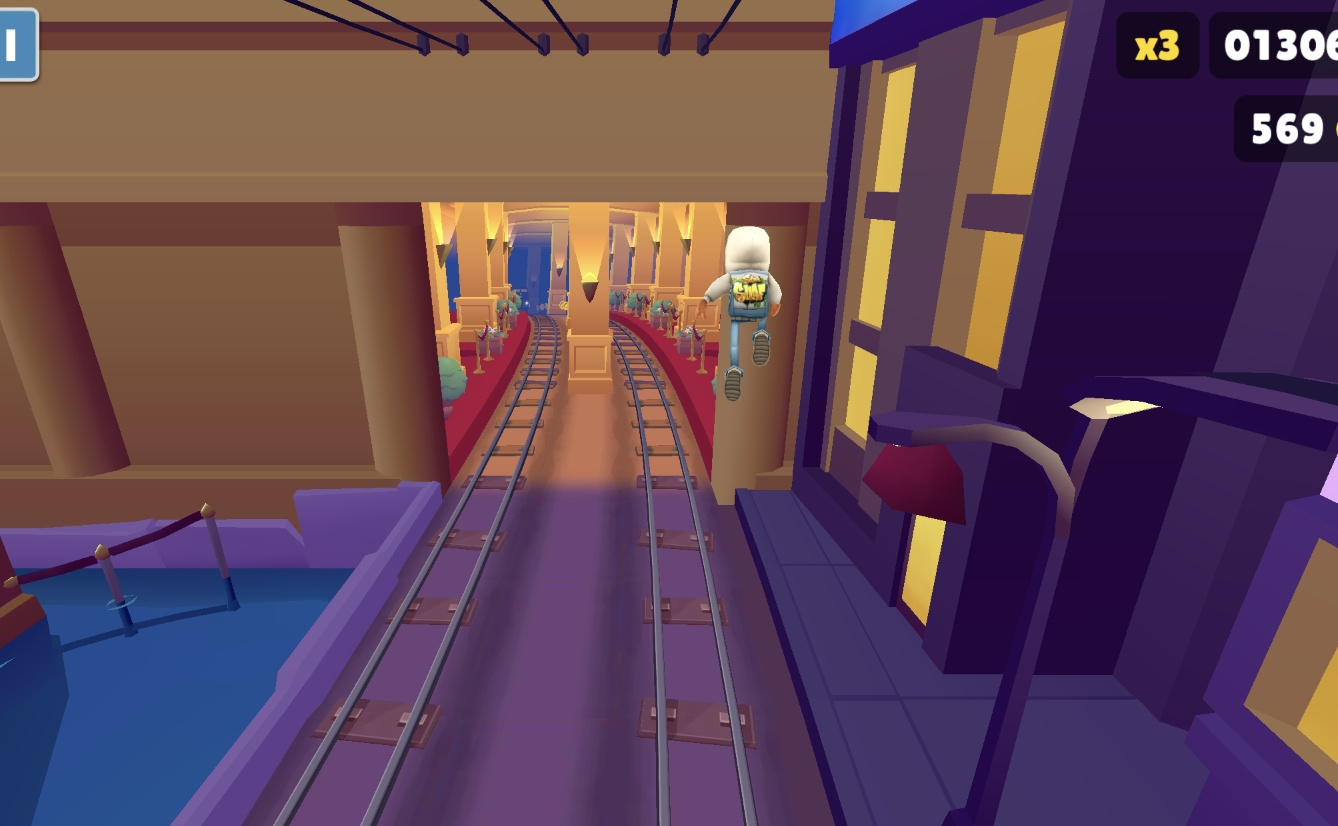pillar: (562, 202, 614, 384)
